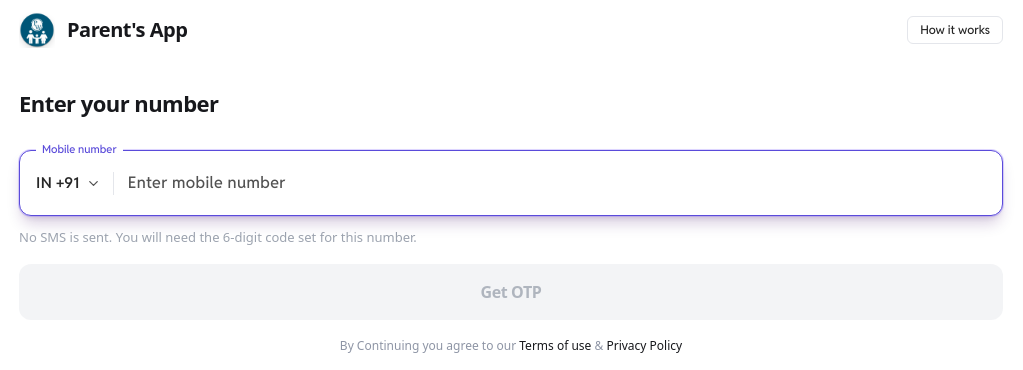
Scenario: LoginScreen › strips non-digit characters from the phone input
In the field with placeholder "Enter mobile number": [550, 183] box [114, 169, 986, 197], type "+91 93350-10032x"
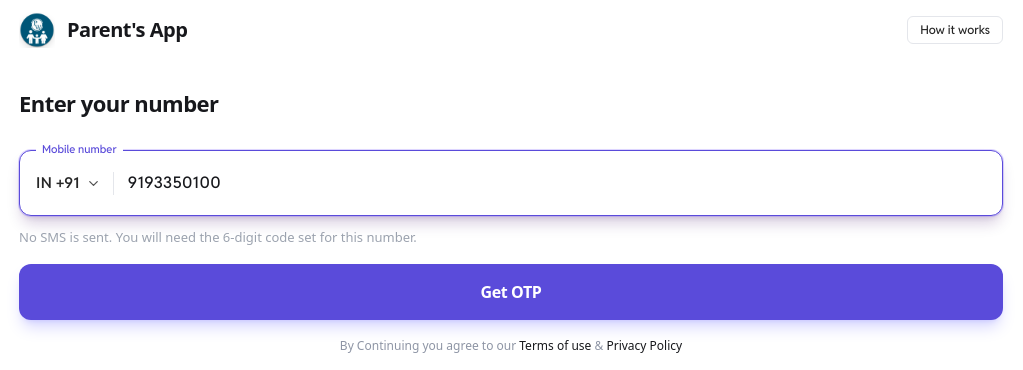
Expected: the field holds "9193350100", [114, 169, 986, 197]
